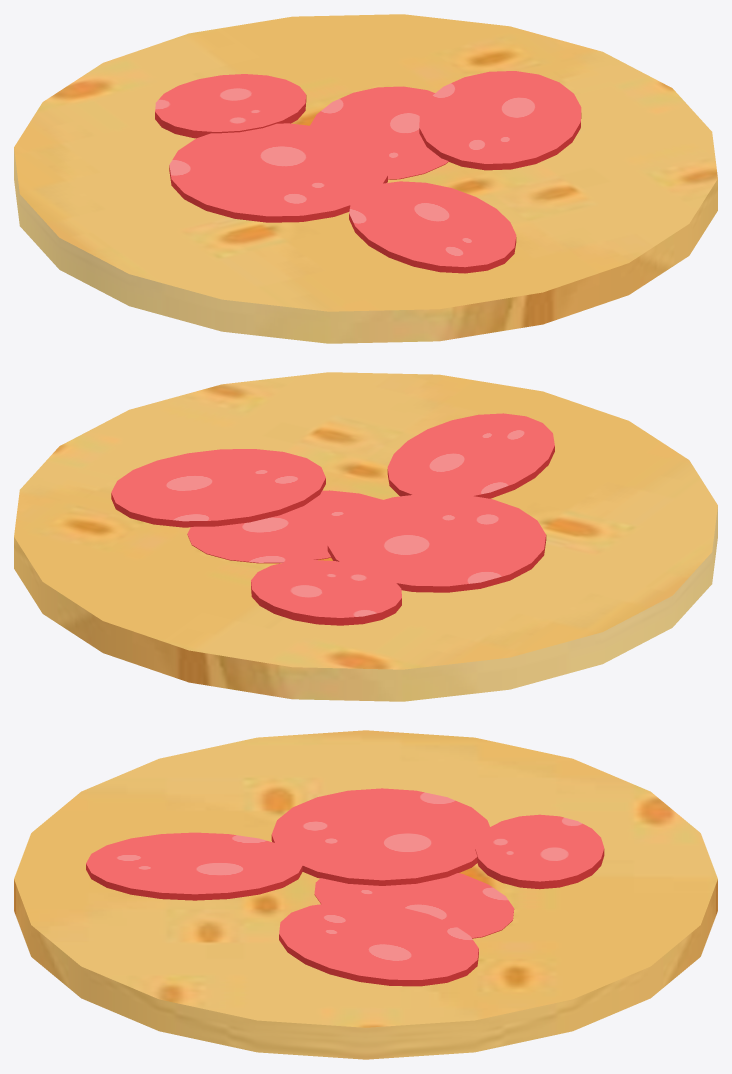
File: taco_Carne.glb
The picture shows the model from 3 angles, top to bottom: view 1: azimuth 30°, elevation 25°; view 2: azimuth 150°, elevation 25°; view 3: azimuth 270°, elevation 25°; orthographic projection.
Visible parts, largest first — view 1: tortilla.002, Ham_Slice_Ham_0.002; view 2: tortilla.002, Ham_Slice_Ham_0.002; view 3: tortilla.002, Ham_Slice_Ham_0.002.
Boxes of the visible parts, bbox=[...] form: tortilla.002: bbox=[14, 14, 717, 343]; Ham_Slice_Ham_0.002: bbox=[155, 71, 581, 273]; tortilla.002: bbox=[14, 372, 717, 701]; Ham_Slice_Ham_0.002: bbox=[111, 413, 554, 625]; tortilla.002: bbox=[14, 730, 717, 1059]; Ham_Slice_Ham_0.002: bbox=[86, 788, 604, 986].
Bounding box in the file's own units: 0.2118 × 0.0131 × 0.2118.
Materials: 2 (2 with a texture image).
